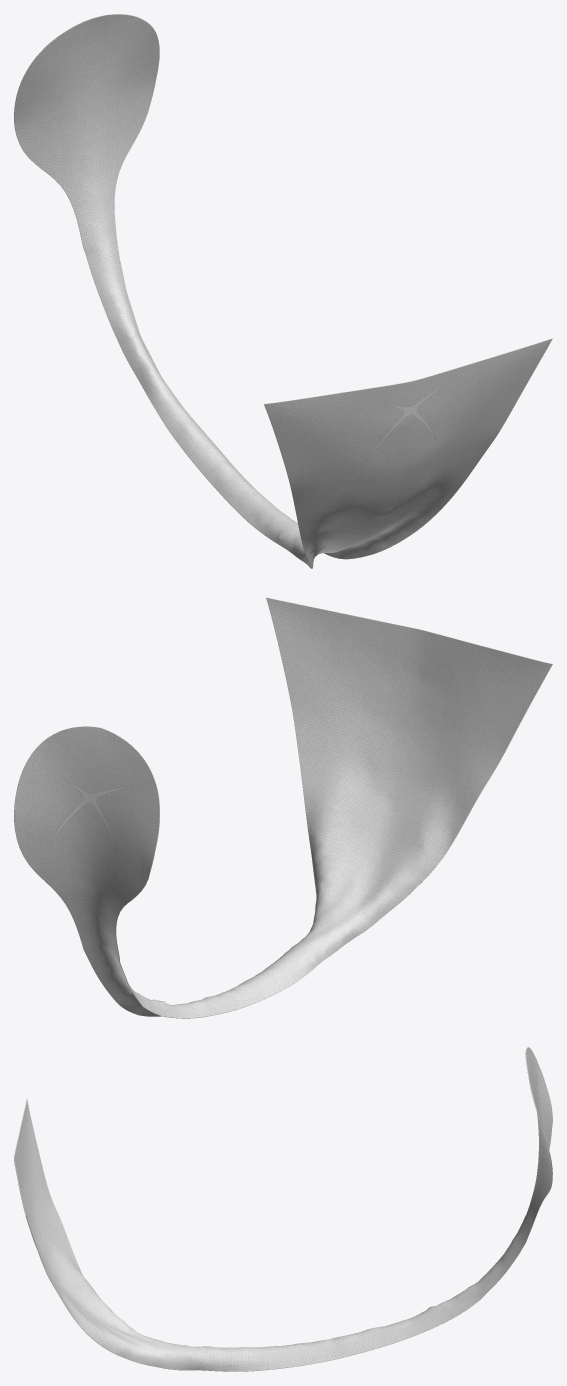
File: ECLIPE THONG.glb
The picture shows the model from 3 angles, top to bottom: view 1: azimuth 30°, elevation 25°; view 2: azimuth 150°, elevation 25°; view 3: azimuth 270°, elevation 25°; orthographic projection. The views are drawn at different scales.
Parts seen in each view (by area): view 1: Cloth; view 2: Cloth; view 3: Cloth.
Boxes of the visible parts, x1,y1,x2,y2 form: Cloth: [14, 14, 552, 568]; Cloth: [14, 597, 552, 1018]; Cloth: [14, 1047, 552, 1371].
Size of the model in its own units: 0.1089 by 0.1395 by 0.2181.
Materials: 3 (3 with a texture image).
